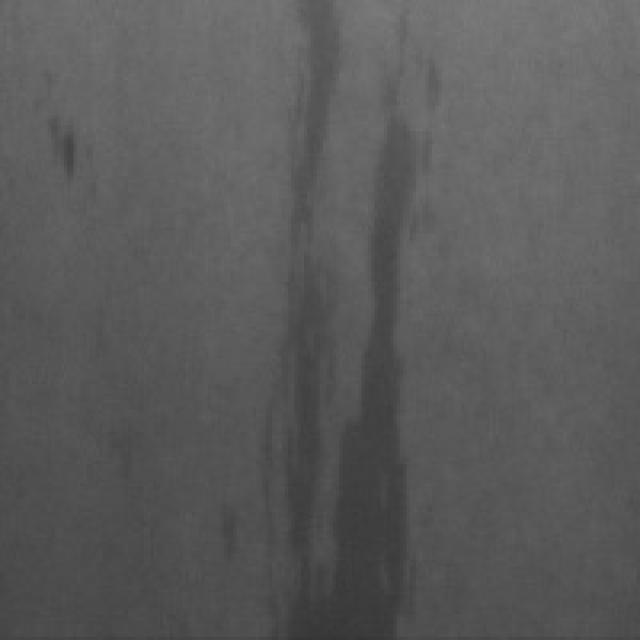inclusion: (268, 6, 426, 628), (266, 0, 346, 269)
